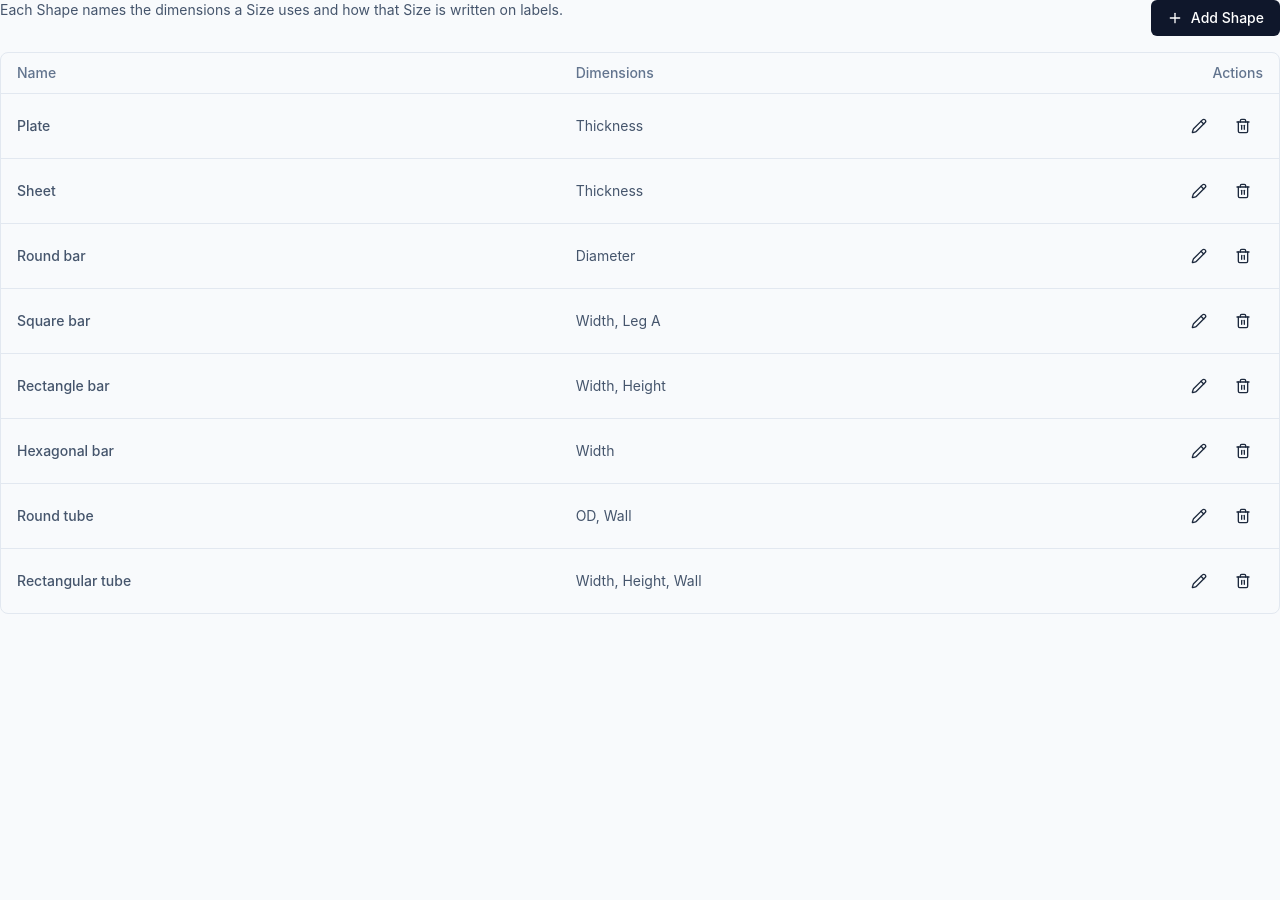
it: ShapesEditor › lets the user delete a dimension when the Material count cannot be loaded
The width and height of the screenshot is (1280, 900).
Click the button named "Edit Square bar". click: (1199,320)
box: [1179, 304, 1219, 336]
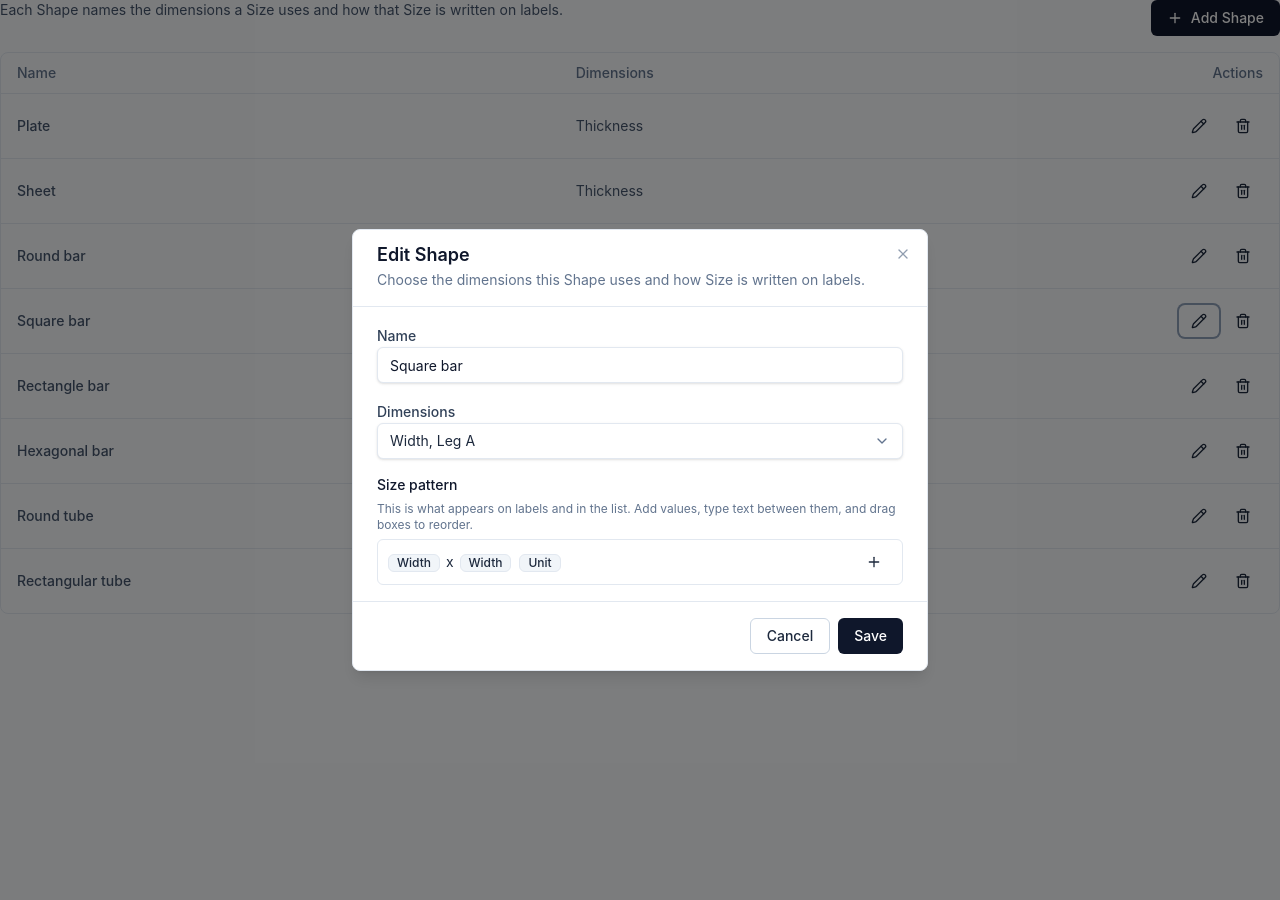
Click the button with aria-label "Dimensions for Square bar". click: (433,440)
box: [377, 423, 903, 459]
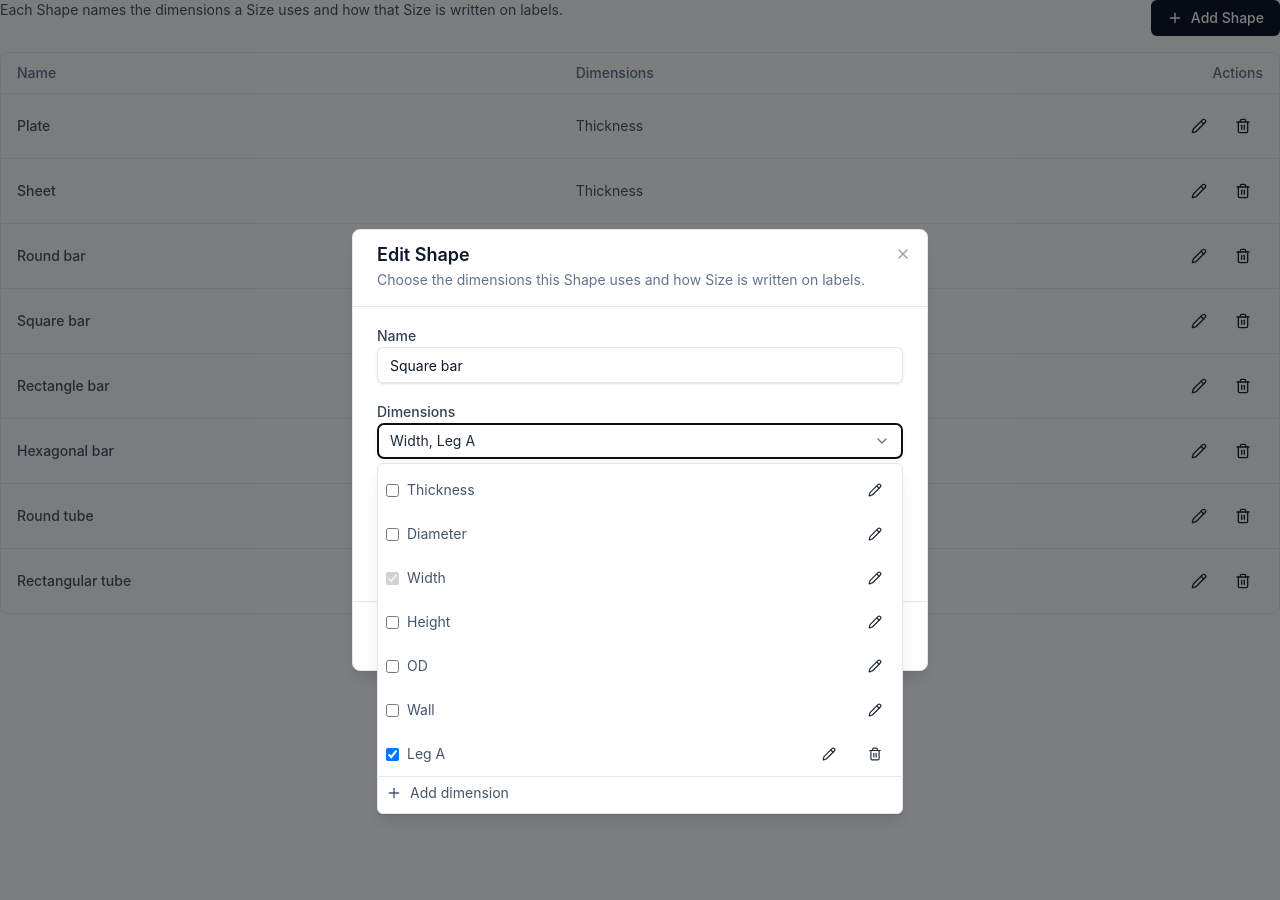
Click the button named "Delete Leg A". click: (875,754)
box: [856, 738, 894, 770]
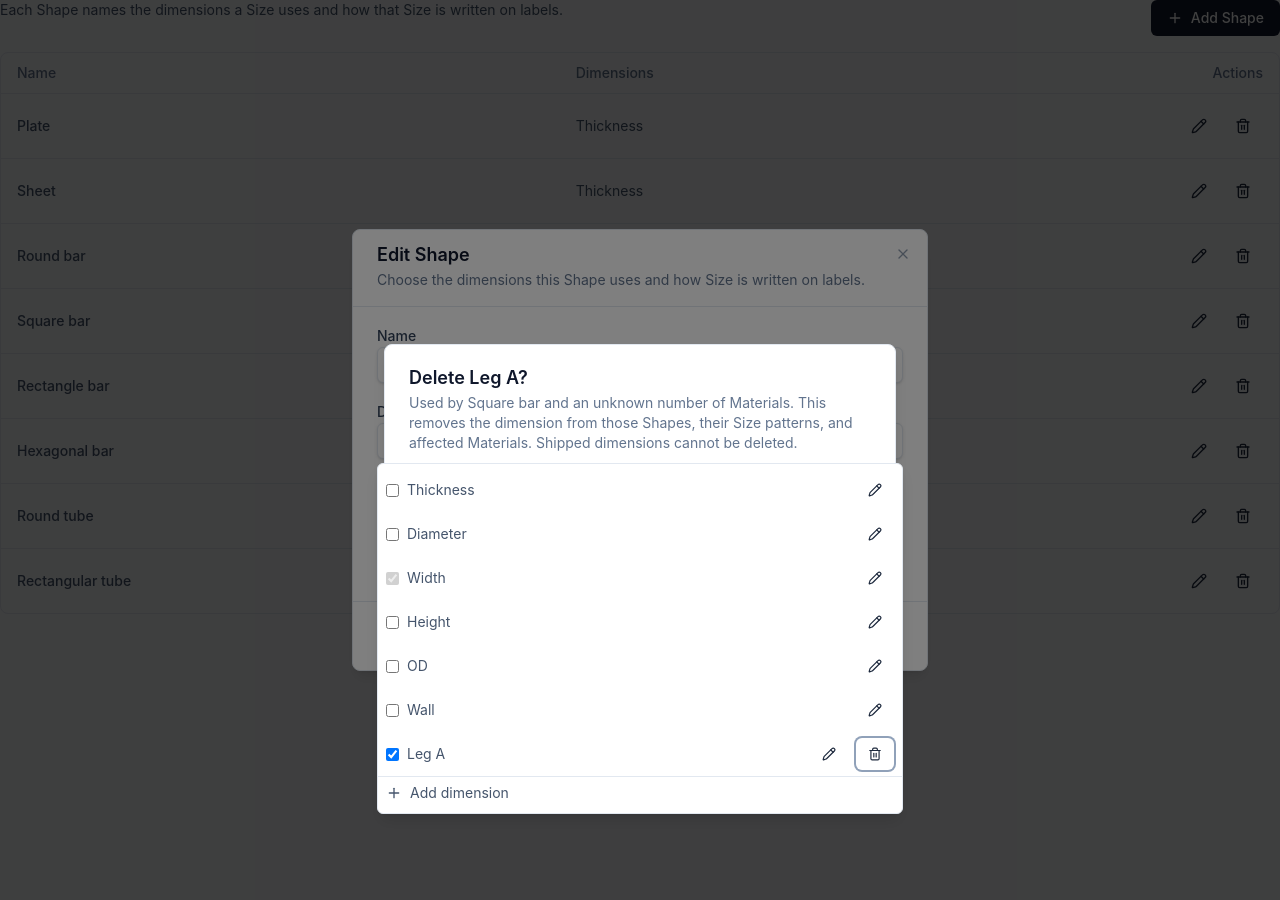
Check: the text "Library folder is offline" is shown, box [409, 460, 558, 477]
Check: the text "an unknown number of Materials" is shown, box [573, 394, 790, 411]
